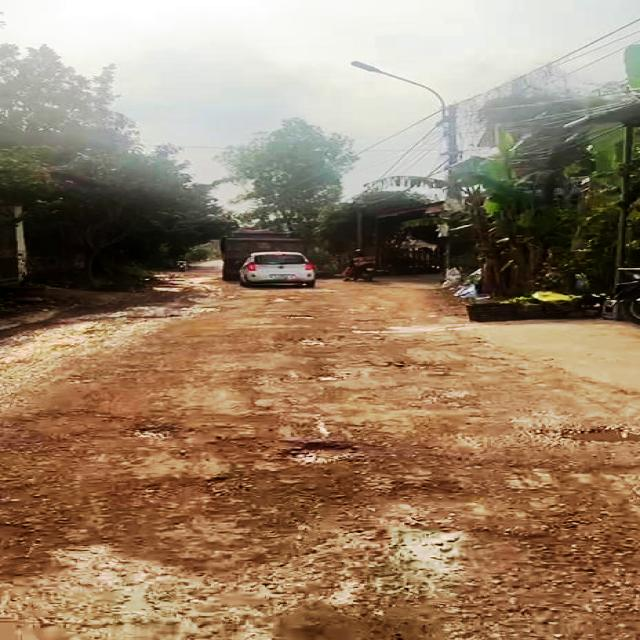pothole: (361, 517, 639, 640), (283, 439, 363, 470), (545, 423, 640, 446), (314, 373, 348, 382), (298, 338, 328, 347), (283, 314, 317, 320)
